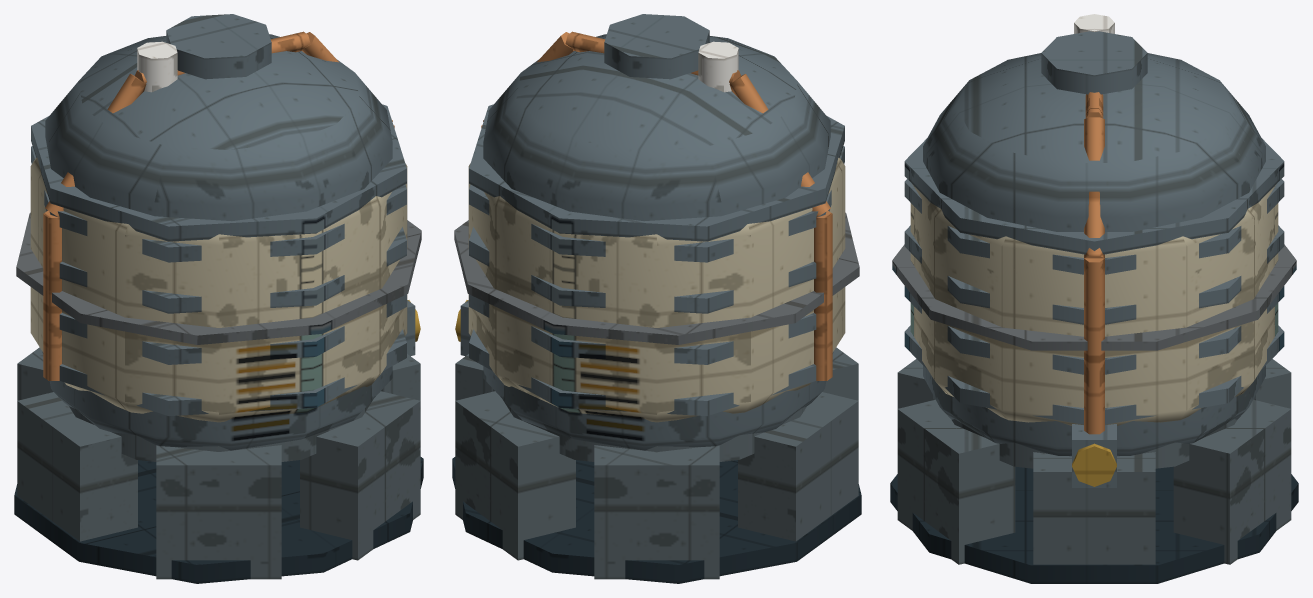
File: tank_large.glb
3 renders of one model, left to right at view 1: azimuth 30°, elevation 25°; view 2: azimuth 150°, elevation 25°; view 3: azimuth 270°, elevation 25°, orthographic. The views are drawn at different scales.
Parts seen in each view (by area): view 1: merged-667681, merged-5d6a72, merged-cfc7ae, merged-202e38, merged-6a7076, merged-c88755, merged-0c141a; view 2: merged-667681, merged-5d6a72, merged-cfc7ae, merged-202e38, merged-6a7076, merged-c88755, merged-0c141a; view 3: merged-667681, merged-cfc7ae, merged-5d6a72, merged-202e38, merged-6a7076, merged-c88755, merged-c19a3e, merged-0c141a.
Part boxes in pixels (x1,y1,x2,y2): merged-667681: [31, 14, 415, 450]; merged-5d6a72: [17, 347, 420, 579]; merged-cfc7ae: [30, 157, 407, 422]; merged-202e38: [14, 457, 423, 583]; merged-6a7076: [16, 212, 421, 344]; merged-c88755: [43, 31, 394, 380]; merged-0c141a: [137, 41, 177, 92]; merged-667681: [460, 14, 844, 450]; merged-5d6a72: [455, 347, 858, 579]; merged-cfc7ae: [468, 157, 845, 422]; merged-202e38: [452, 457, 861, 583]; merged-6a7076: [454, 212, 859, 344]; merged-c88755: [481, 31, 832, 380]; merged-0c141a: [698, 41, 738, 92]; merged-667681: [904, 31, 1284, 487]; merged-cfc7ae: [910, 184, 1278, 425]; merged-5d6a72: [897, 359, 1291, 564]; merged-202e38: [890, 466, 1298, 583]; merged-6a7076: [892, 244, 1296, 350]; merged-c88755: [1084, 92, 1104, 434]; merged-c19a3e: [1072, 443, 1116, 486]; merged-0c141a: [1074, 14, 1114, 33].
Size of the model in its own units: 10.03 by 12.15 by 10.
Materials: 8 (8 with a texture image).
